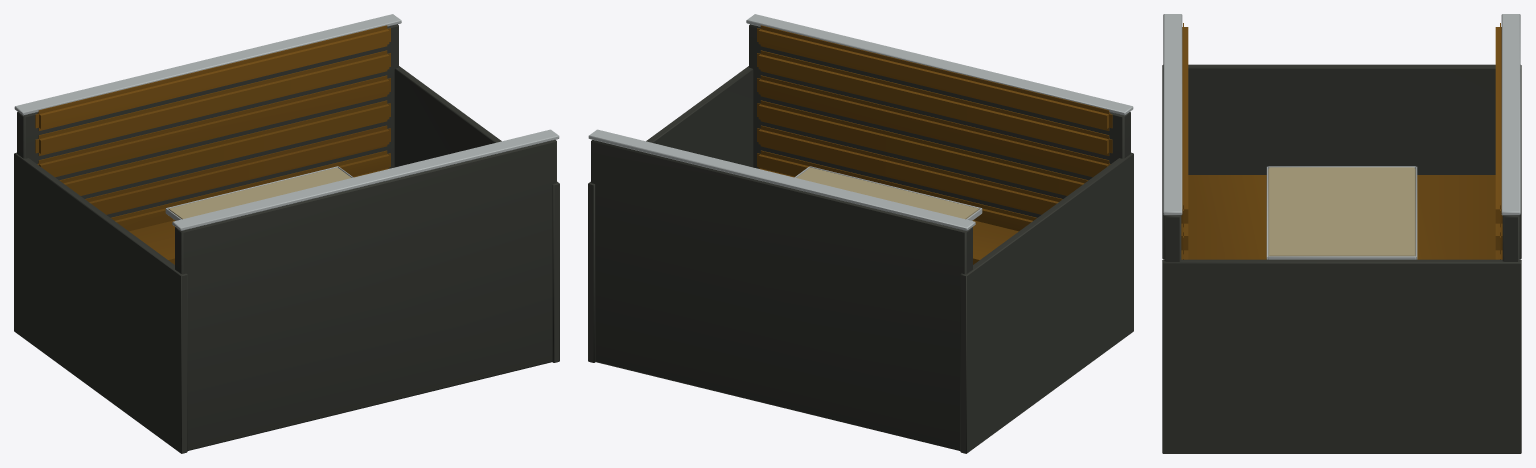
File: rest-booth-4.glb
The picture shows the model from 3 angles, left to right: view 1: azimuth 30°, elevation 25°; view 2: azimuth 150°, elevation 25°; view 3: azimuth 270°, elevation 25°; orthographic projection. The views are drawn at different scales.
Visible parts, largest first — view 1: frame__wood, seats__vinyl, trim__chrome, table__plastic; view 2: frame__wood, seats__vinyl, trim__chrome, table__plastic; view 3: frame__wood, seats__vinyl, table__plastic, trim__chrome.
Boxes of the visible parts, x1=… form: frame__wood: x1=14, y1=24, x2=559, y2=453; seats__vinyl: x1=35, y1=25, x2=390, y2=264; trim__chrome: x1=14, y1=14, x2=559, y2=230; table__plastic: x1=168, y1=167, x2=351, y2=219; frame__wood: x1=588, y1=24, x2=1133, y2=453; seats__vinyl: x1=757, y1=25, x2=1112, y2=264; trim__chrome: x1=588, y1=14, x2=1133, y2=230; table__plastic: x1=796, y1=167, x2=979, y2=219; frame__wood: x1=1162, y1=64, x2=1521, y2=453; seats__vinyl: x1=1181, y1=23, x2=1502, y2=259; table__plastic: x1=1268, y1=167, x2=1415, y2=256; trim__chrome: x1=1163, y1=14, x2=1520, y2=259.
Bounding box in the file's own units: 2.22 × 1.26 × 1.7.
